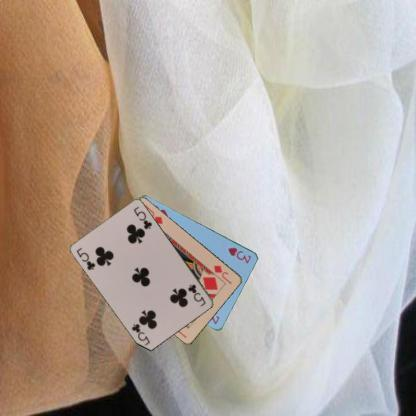3h: (223, 244, 252, 264)
5c: (74, 245, 97, 272), (186, 281, 208, 308)
Jd: (211, 262, 233, 286)
